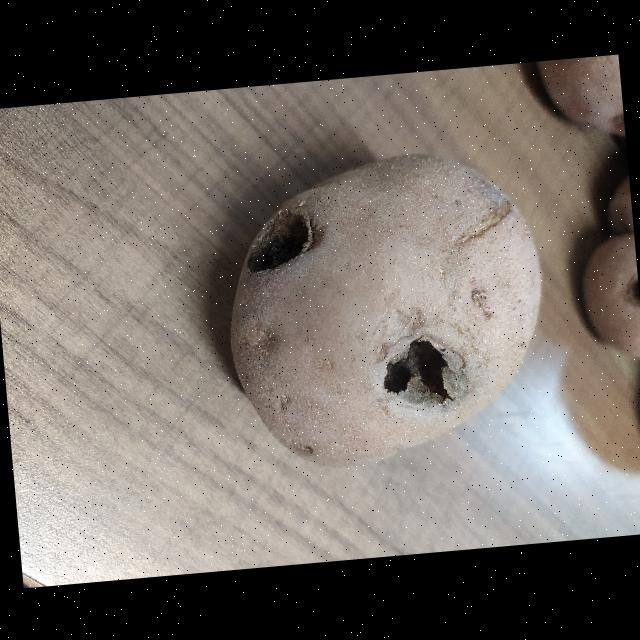Damaged potato: (226, 116, 576, 474)
